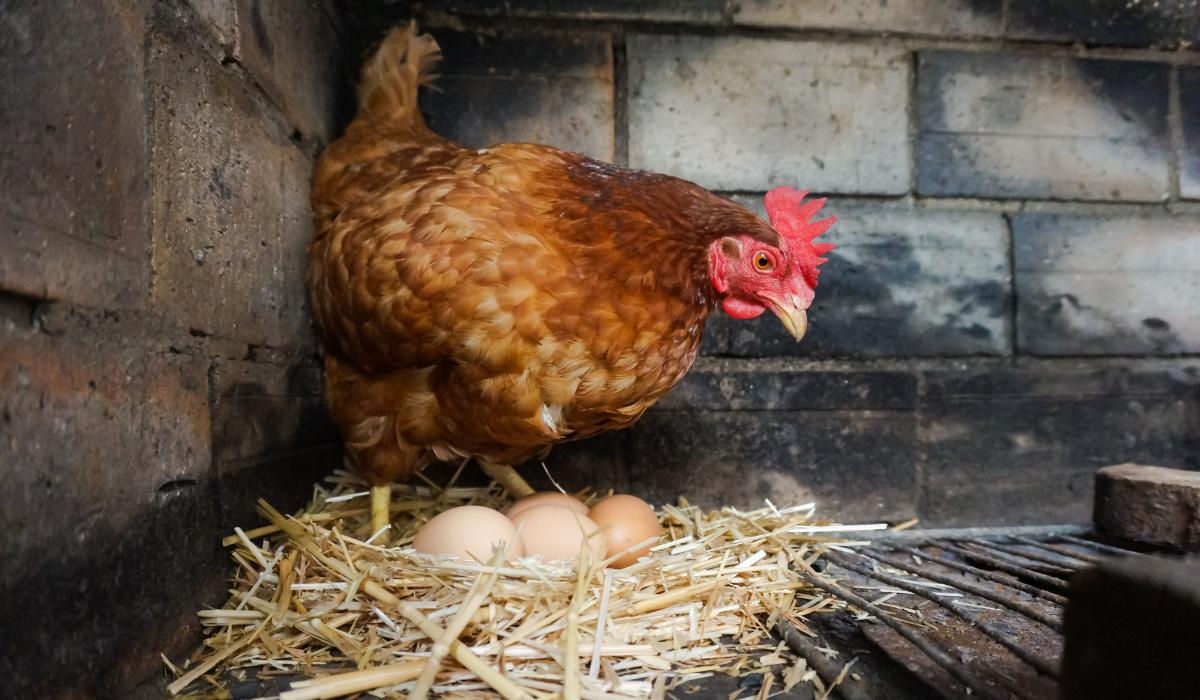egg: (415, 480, 515, 580), (512, 485, 598, 597), (590, 472, 673, 565)
